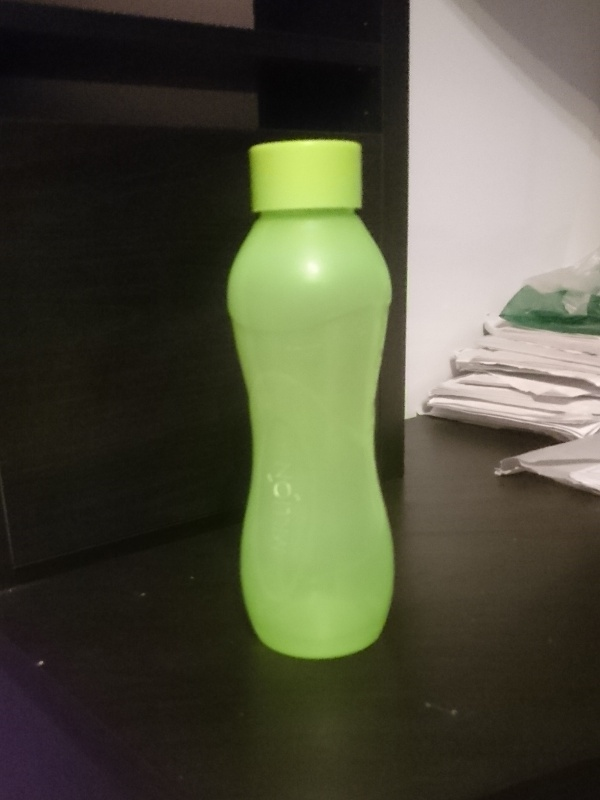my bottle: (224, 138, 394, 660)
